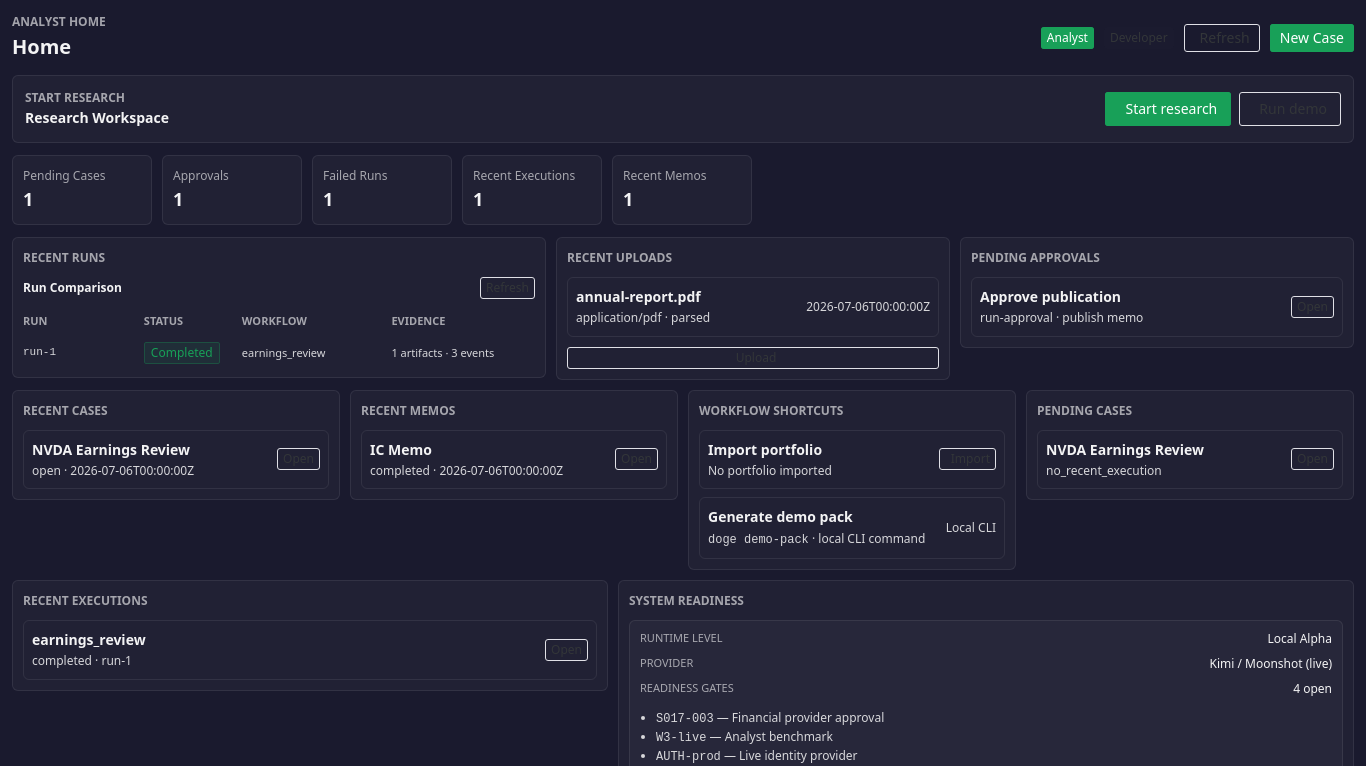
it: HomeDashboardView › does not route to a stale run when the Home demo request fails
Click the button "Run demo": (1290, 109) x1=1239 y1=92 x2=1341 y2=126
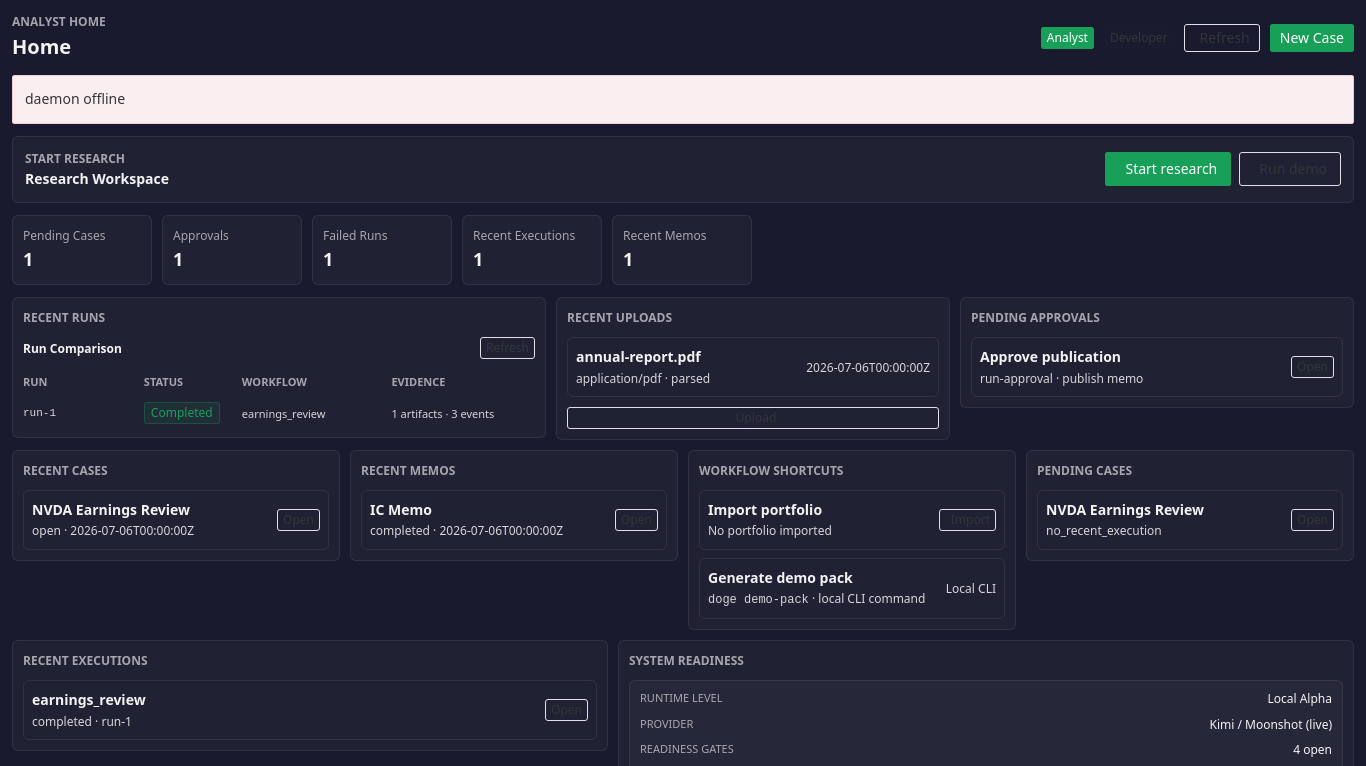
Expected: the text "daemon offline" is shown, x1=25 y1=89 x2=125 y2=108
